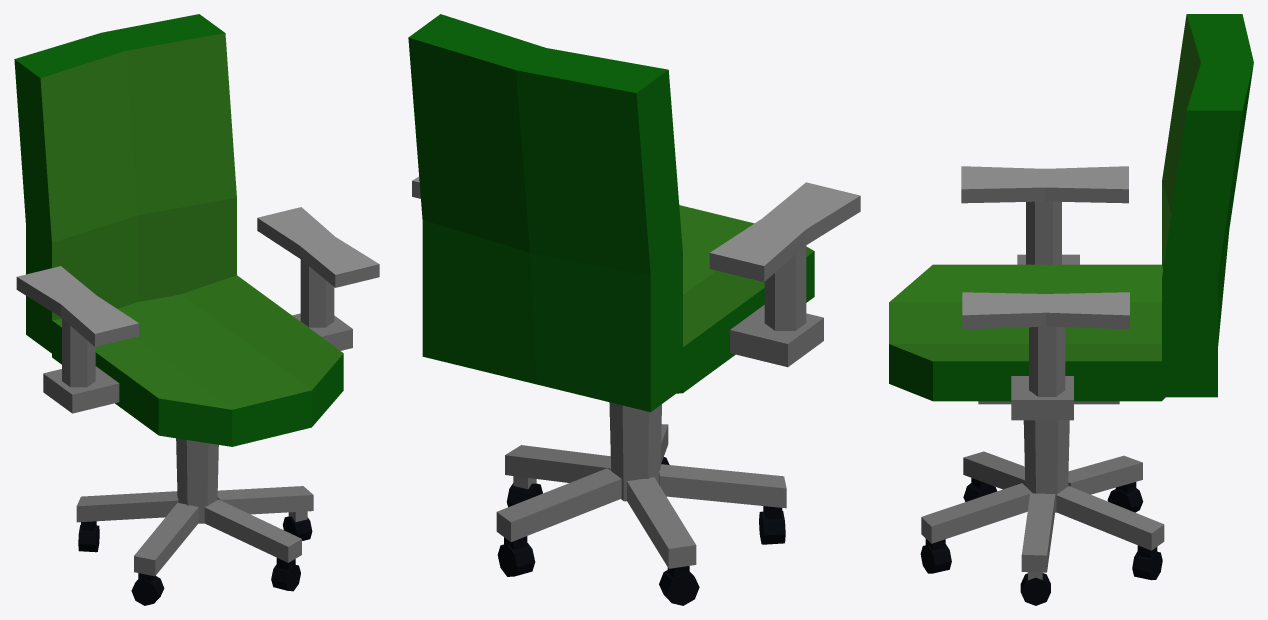
File: OfficeChairGreen.fbx
3 views of the same model, side by side, from view 1: azimuth 30°, elevation 25°; view 2: azimuth 150°, elevation 25°; view 3: azimuth 270°, elevation 25° (orthographic). The views are drawn at different scales.
Parts seen in each view (by area): view 1: OfficeChair; view 2: OfficeChair; view 3: OfficeChair.
Boxes of the visible parts, x1,y1,x2,y2 form: OfficeChair: [14, 14, 379, 605]; OfficeChair: [408, 14, 860, 605]; OfficeChair: [889, 14, 1253, 605].
Size of the model in its own units: 87.05 by 133 by 89.99.
